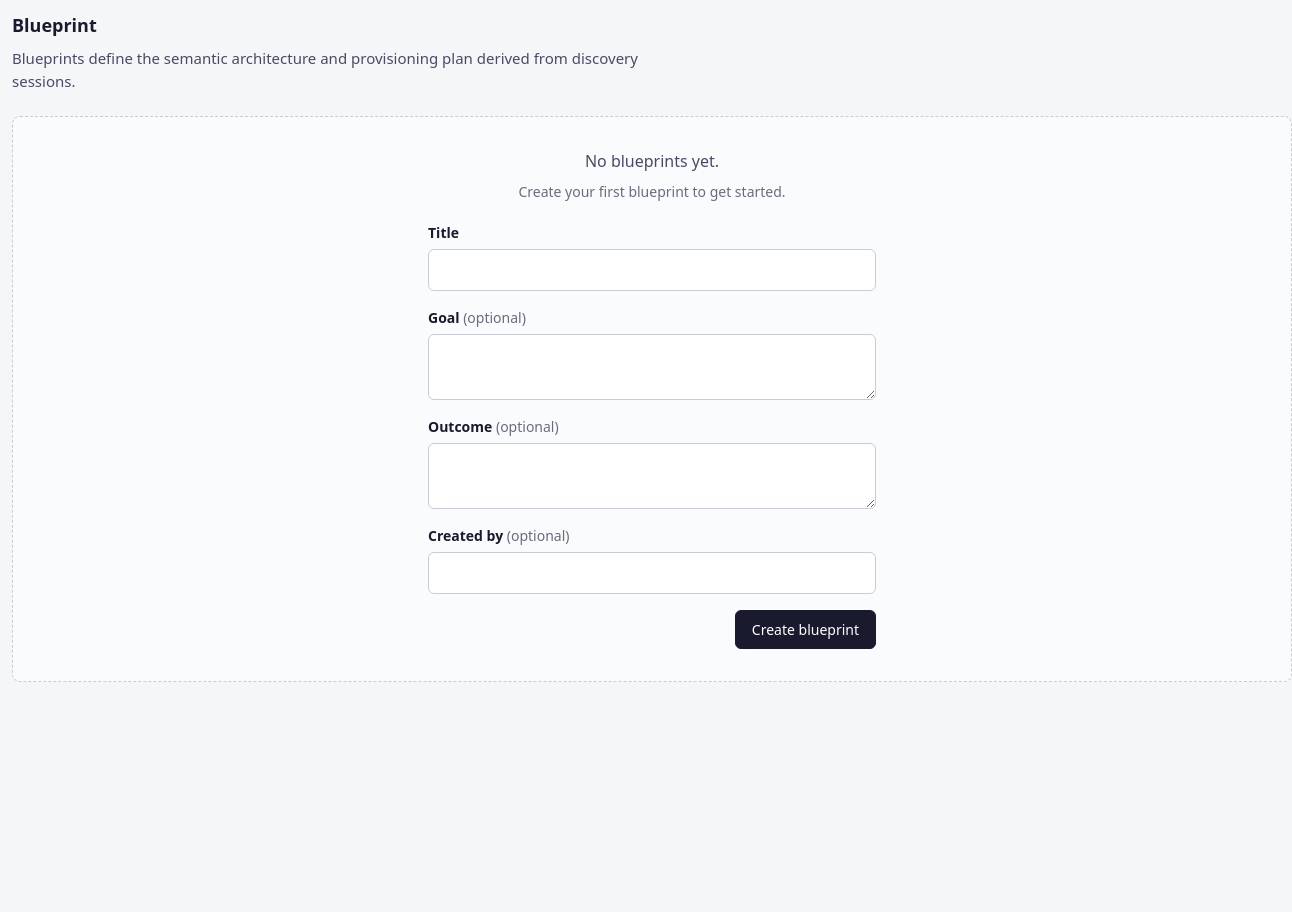
Scenario: BlueprintPage › shows API error on create failure
The image size is (1292, 912).
Expected: the form labelled "Create blueprint" is shown, [428, 222, 876, 649]
Type "Fail Blueprint" into the field labelled "Title" at [652, 270], box [428, 249, 876, 291]
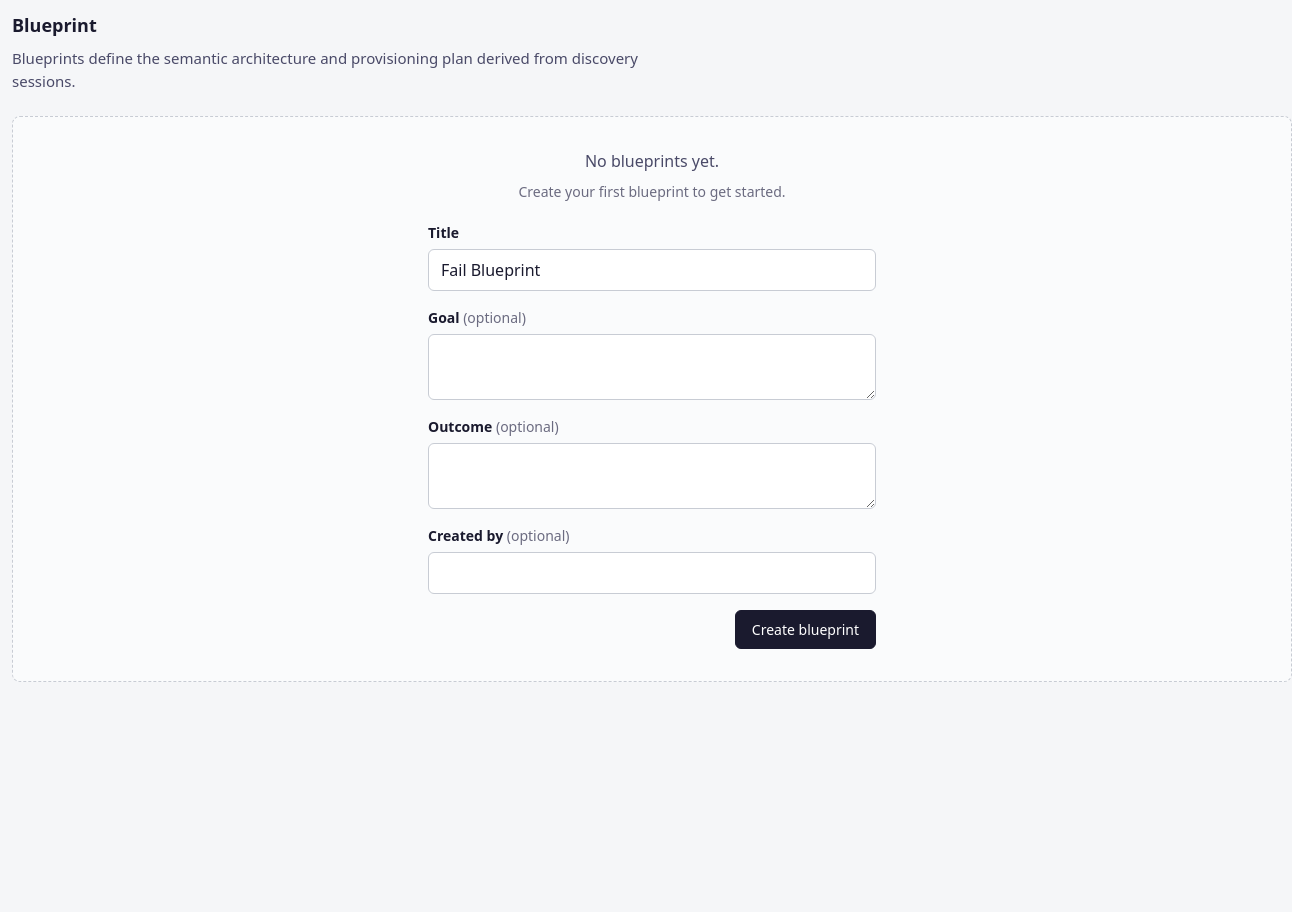
Click the button "Create blueprint" at [805, 630], box [735, 610, 876, 649]
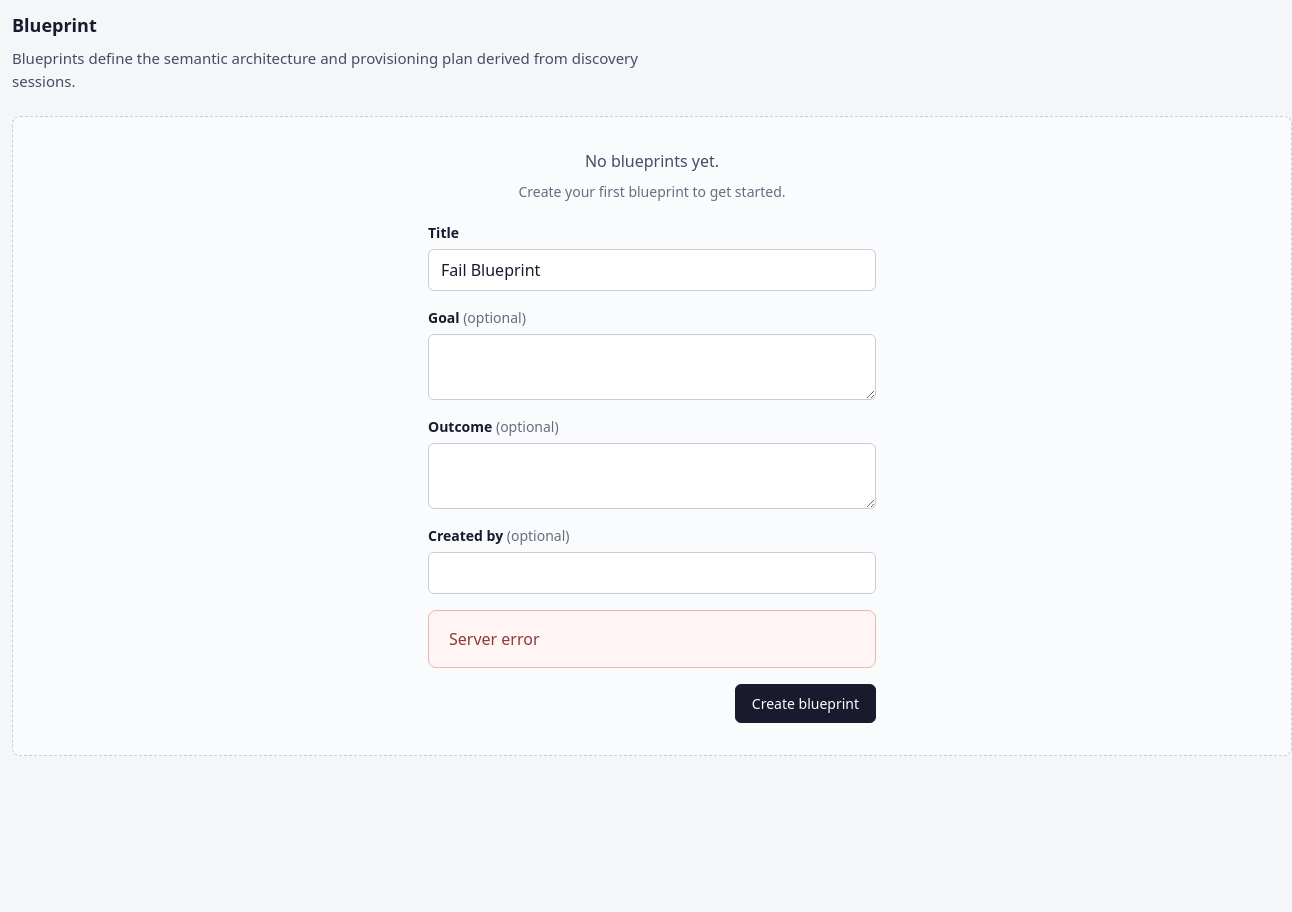
Expected: the message reads "Server error", [449, 628, 540, 650]
